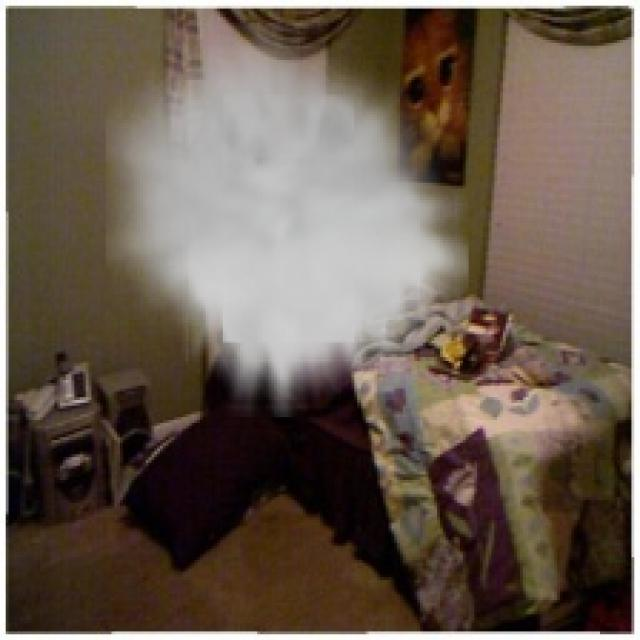smoke: (106, 23, 468, 417)
